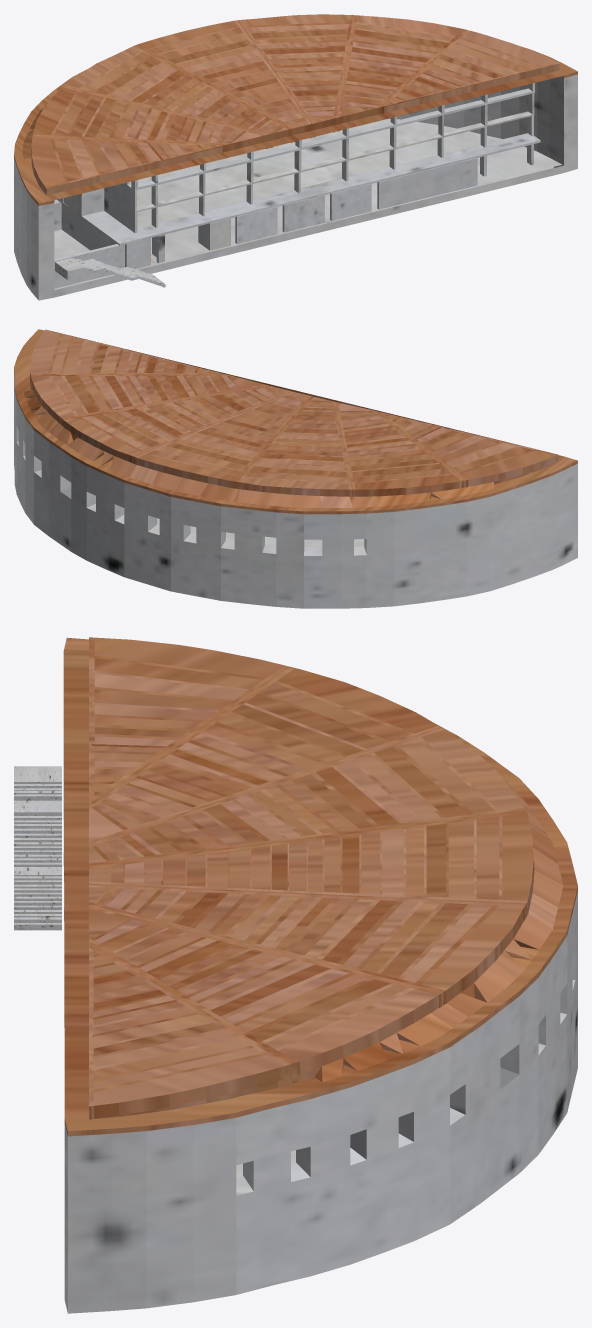
The model's file is halle.fbx.
3 views of the same model, one above another, from view 1: azimuth 30°, elevation 25°; view 2: azimuth 150°, elevation 25°; view 3: azimuth 270°, elevation 25° (orthographic). The views are drawn at different scales.
Visible parts, largest first — view 1: Wände.001, Wände, Erdgeschoss, Erster Stock, Zweiter Stock, Dritter Stock, Treppen; view 2: Wände.001, Wände; view 3: Wände.001, Wände, Treppen.
Boxes of the visible parts, left/top/right/bottom form: Wände.001: left=14, top=14, right=577, bottom=205; Wände: left=14, top=74, right=577, bottom=300; Erdgeschoss: left=54, top=144, right=533, bottom=288; Erster Stock: left=57, top=115, right=540, bottom=245; Zweiter Stock: left=80, top=93, right=534, bottom=212; Dritter Stock: left=125, top=83, right=534, bottom=190; Treppen: left=55, top=258, right=165, bottom=287; Wände.001: left=14, top=329, right=577, bottom=514; Wände: left=14, top=372, right=577, bottom=608; Wände.001: left=63, top=637, right=577, bottom=1136; Wände: left=63, top=737, right=577, bottom=1313; Treppen: left=14, top=766, right=61, bottom=930.
Size of the model in its own units: 4851 by 998 by 2343.
Materials: 5 (5 with a texture image).
